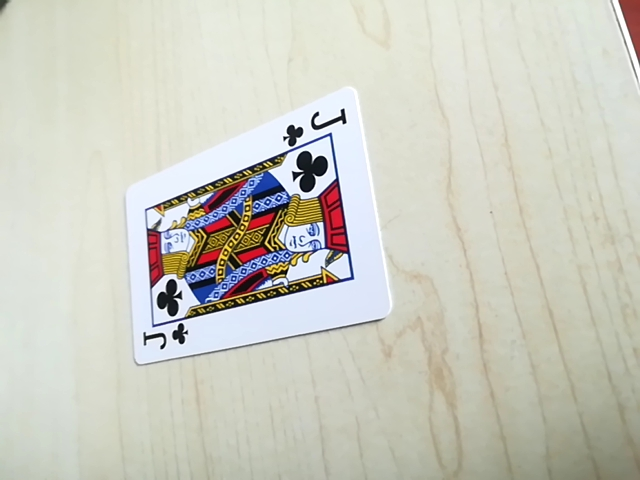mh j: (282, 105, 352, 147), (136, 316, 193, 359)
